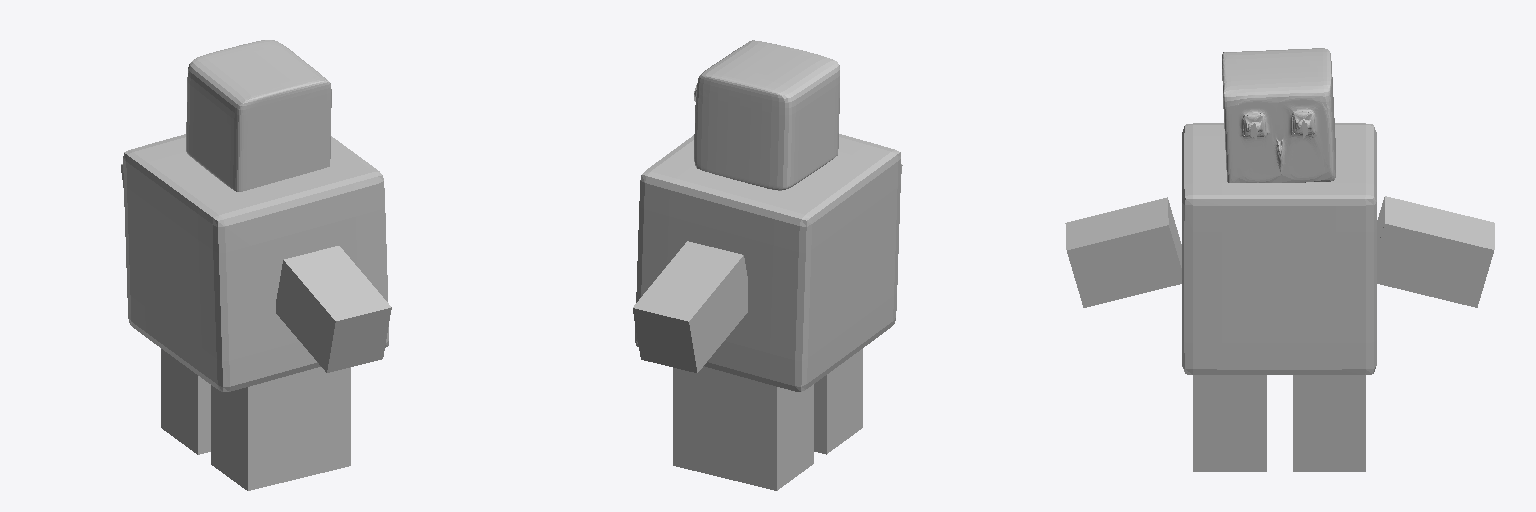
3 views of the same model, side by side, from view 1: azimuth 30°, elevation 25°; view 2: azimuth 150°, elevation 25°; view 3: azimuth 270°, elevation 25° (orthographic).
Visible parts, largest first — view 1: Cube_Cube.001, Cube.001_Cube.002, Cube.002_Cube.003, Cube.005_Cube.007, Cube.003_Cube.004; view 2: Cube_Cube.001, Cube.001_Cube.002, Cube.003_Cube.004, Cube.004_Cube.005, Cube.002_Cube.003; view 3: Cube_Cube.001, Cube.001_Cube.002, Cube.004_Cube.005, Cube.005_Cube.007, Cube.002_Cube.003, Cube.003_Cube.004.
Part boxes in pixels (x1,y1,x2,y2): Cube_Cube.001: (123,134,388,391); Cube.001_Cube.002: (186,40,331,191); Cube.002_Cube.003: (211,367,350,490); Cube.005_Cube.007: (276,246,391,372); Cube.003_Cube.004: (161,349,210,454); Cube_Cube.001: (635,134,900,391); Cube.001_Cube.002: (694,40,839,190); Cube.003_Cube.004: (673,366,813,490); Cube.004_Cube.005: (633,241,747,372); Cube.002_Cube.003: (814,349,862,454); Cube_Cube.001: (1182,123,1376,374); Cube.001_Cube.002: (1222,48,1335,182); Cube.004_Cube.005: (1377,196,1494,307); Cube.005_Cube.007: (1065,197,1181,307); Cube.002_Cube.003: (1193,375,1266,471); Cube.003_Cube.004: (1293,375,1365,471).
Size of the model in its own units: 1.5 by 3.14 by 3.2.